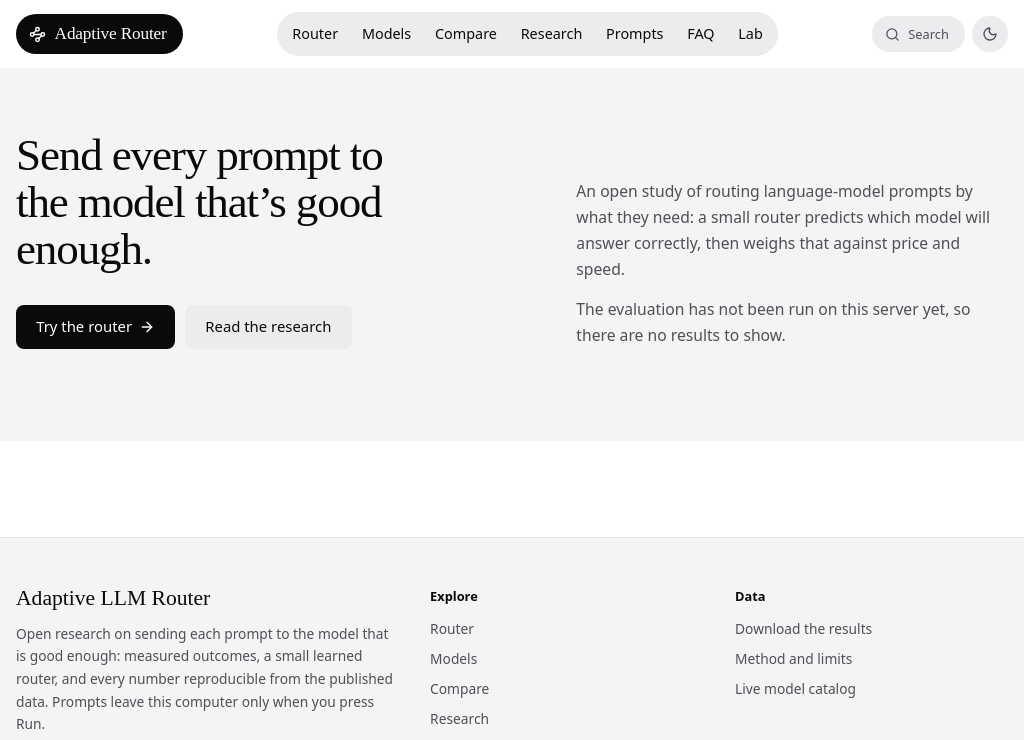
Test: opens on the home page and explains each page before any training
Expected: the heading "Send every prompt to the model that’s good enough." is shown, [16,132,399,273]
Click the link "Research" in the row of "Adaptive Router" at (552, 34), box [521,24,582,44]
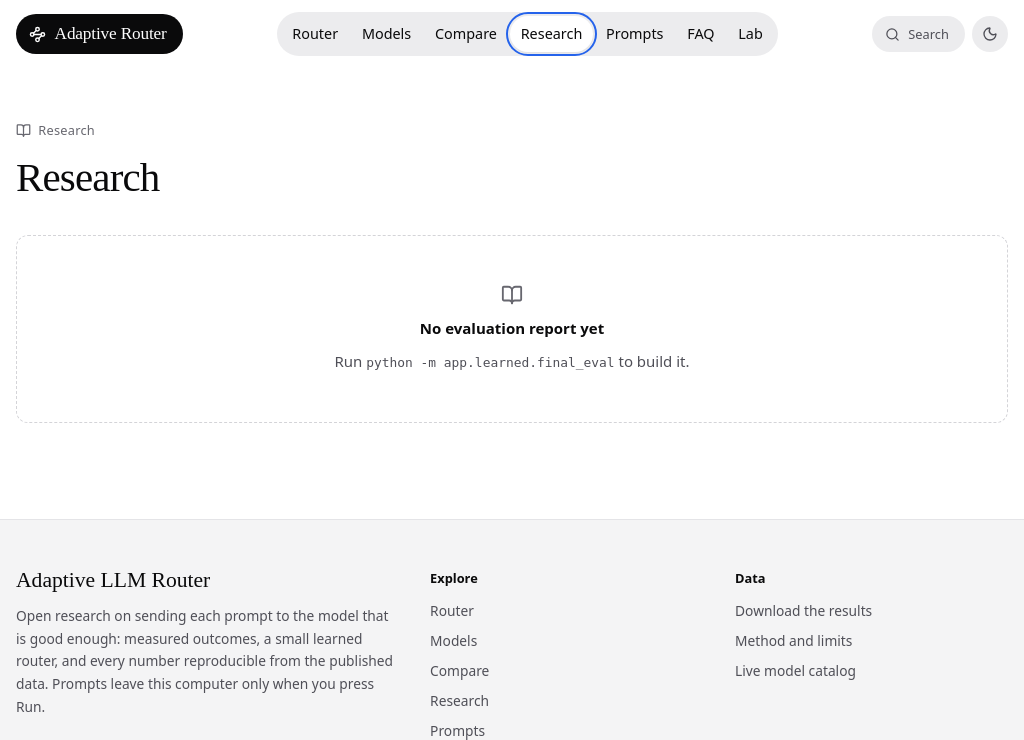
Now the text "No evaluation report yet" is shown, box [420,316,604,340]
